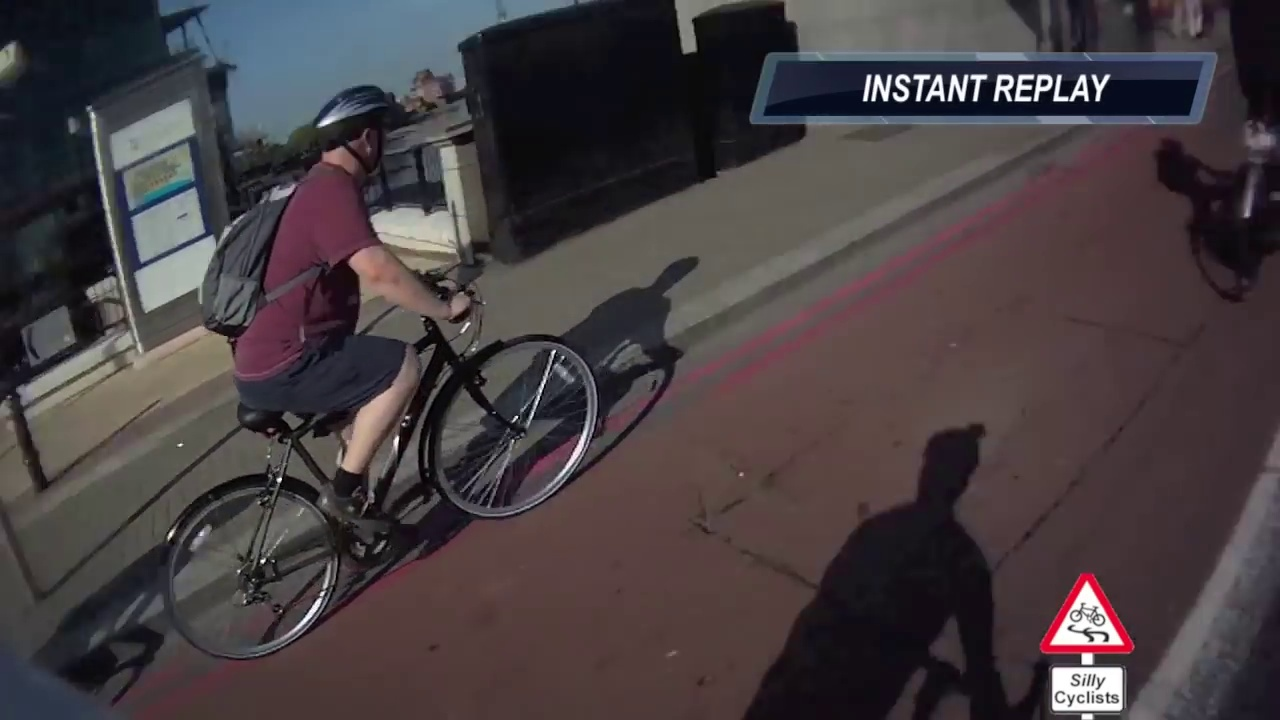cyclist_side: (159, 74, 595, 666)
